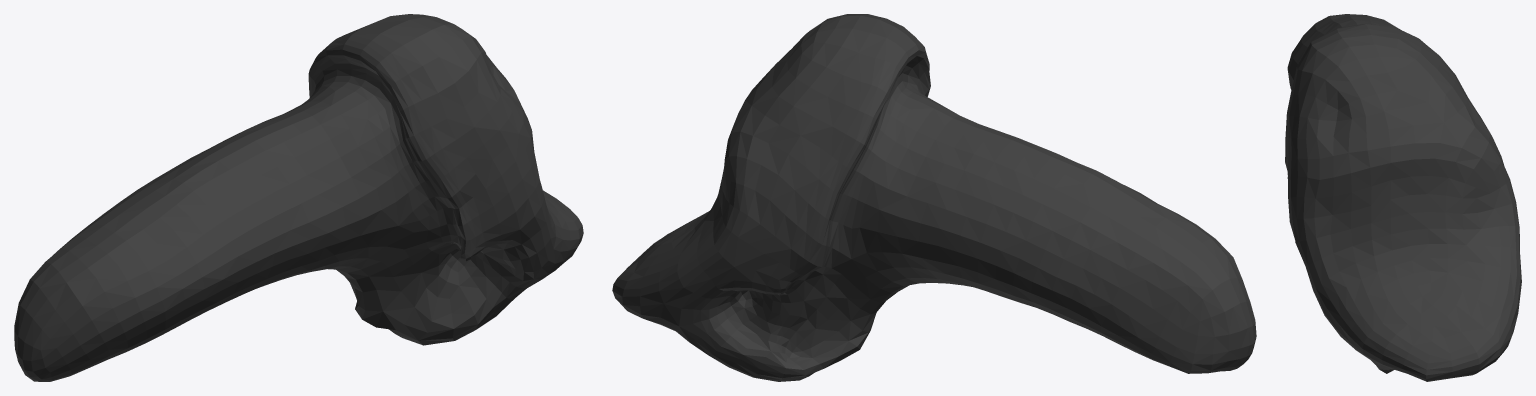
Rendered from distal_phalanx_IV_L.glb.
The picture shows the model from 3 angles, left to right: view 1: azimuth 30°, elevation 25°; view 2: azimuth 150°, elevation 25°; view 3: azimuth 270°, elevation 25°; orthographic projection. The views are drawn at different scales.
Parts seen in each view (by area): view 1: distal_phalanx_IV_L; view 2: distal_phalanx_IV_L; view 3: distal_phalanx_IV_L.
Boxes of the visible parts, x1,y1,x2,y2 form: distal_phalanx_IV_L: (14,14,583,381); distal_phalanx_IV_L: (612,14,1256,381); distal_phalanx_IV_L: (1285,14,1521,381).
Size of the model in its own units: 0.03 by 0.0165 by 0.0113.
1 material, 1 textured.
